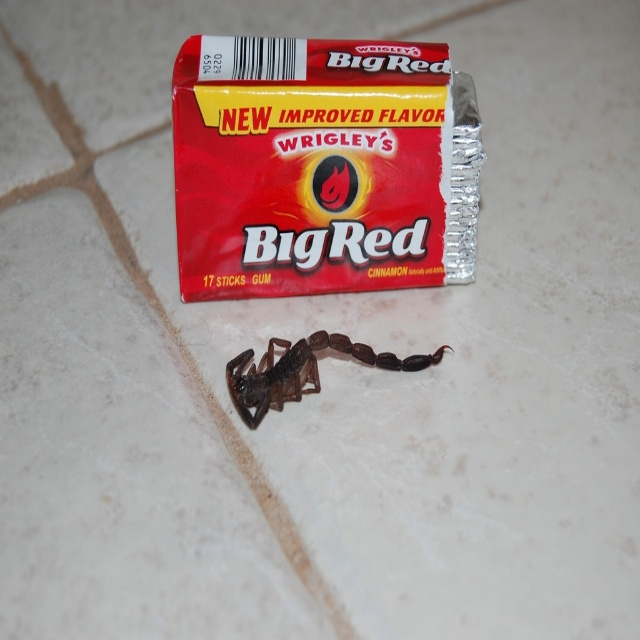Scorpion: (226, 326, 460, 429)
